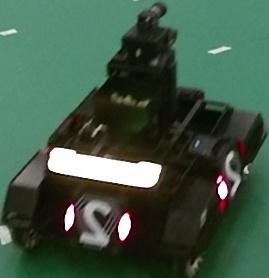armor_2: (64, 204, 132, 241)
back_2: (72, 193, 119, 249)
light: (48, 146, 163, 189)
right_2: (218, 141, 242, 197)
